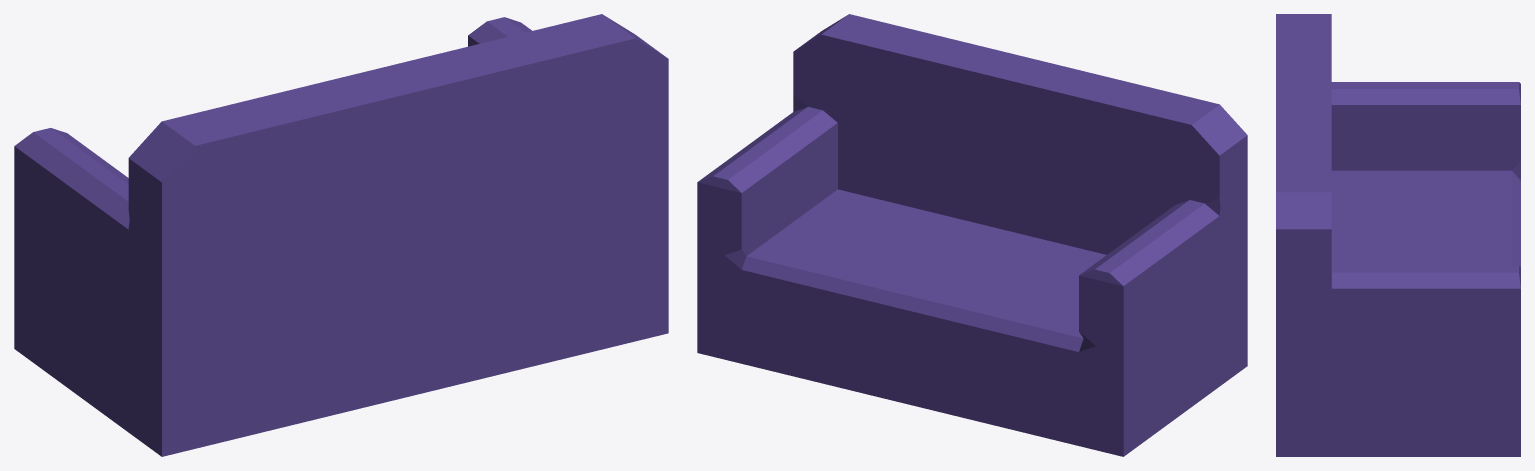
The model's file is Couch.fbx.
The picture shows the model from 3 angles, left to right: view 1: azimuth 30°, elevation 25°; view 2: azimuth 150°, elevation 25°; view 3: azimuth 270°, elevation 25°; orthographic projection. The views are drawn at different scales.
Parts seen in each view (by area): view 1: Couch; view 2: Couch; view 3: Couch.
Part boxes in pixels (bbox=[...]): Couch: bbox=[14, 14, 668, 456]; Couch: bbox=[697, 14, 1247, 456]; Couch: bbox=[1276, 14, 1520, 456].
Size of the model in its own units: 350 by 200 by 177.
